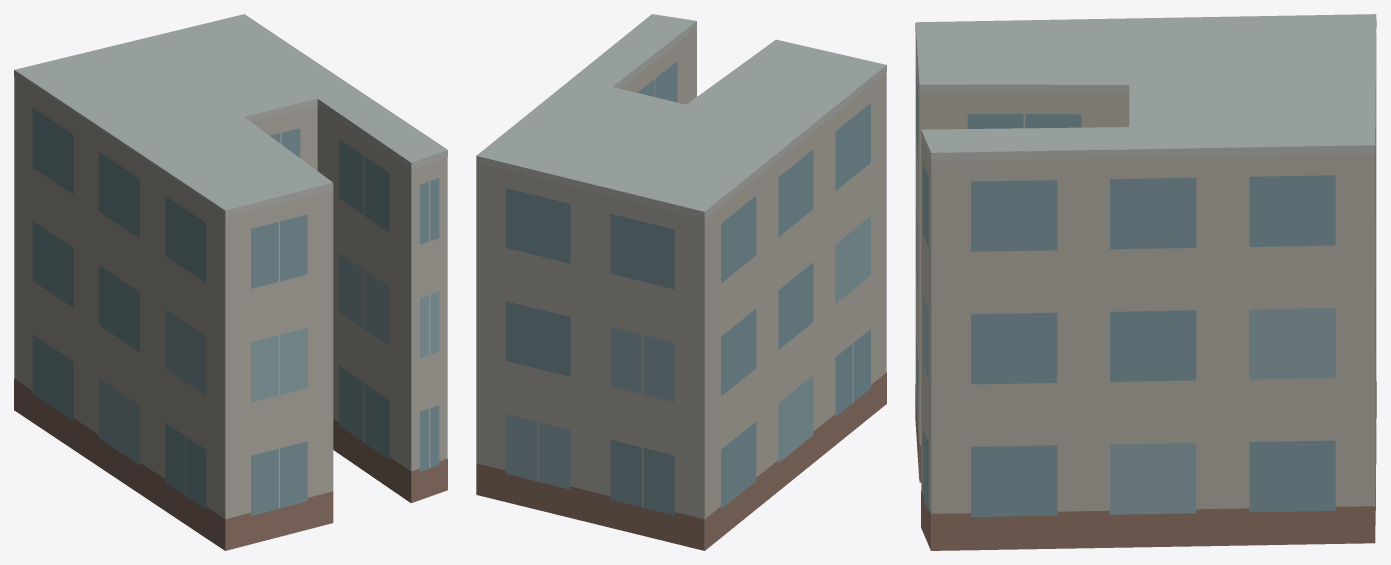
Rendered from survey-upis-32472511.glb.
3 views of the same model, side by side, from view 1: azimuth 30°, elevation 25°; view 2: azimuth 150°, elevation 25°; view 3: azimuth 270°, elevation 25° (orthographic). The views are drawn at different scales.
Visible parts, largest first — view 1: survey-upis-32472511.tmp; view 2: survey-upis-32472511.tmp; view 3: survey-upis-32472511.tmp.
Boxes of the visible parts, bbox=[...] form: survey-upis-32472511.tmp: bbox=[14, 14, 447, 550]; survey-upis-32472511.tmp: bbox=[476, 14, 886, 550]; survey-upis-32472511.tmp: bbox=[915, 14, 1376, 550].
Size of the model in its own units: 8.69 by 11.6 by 12.18.
